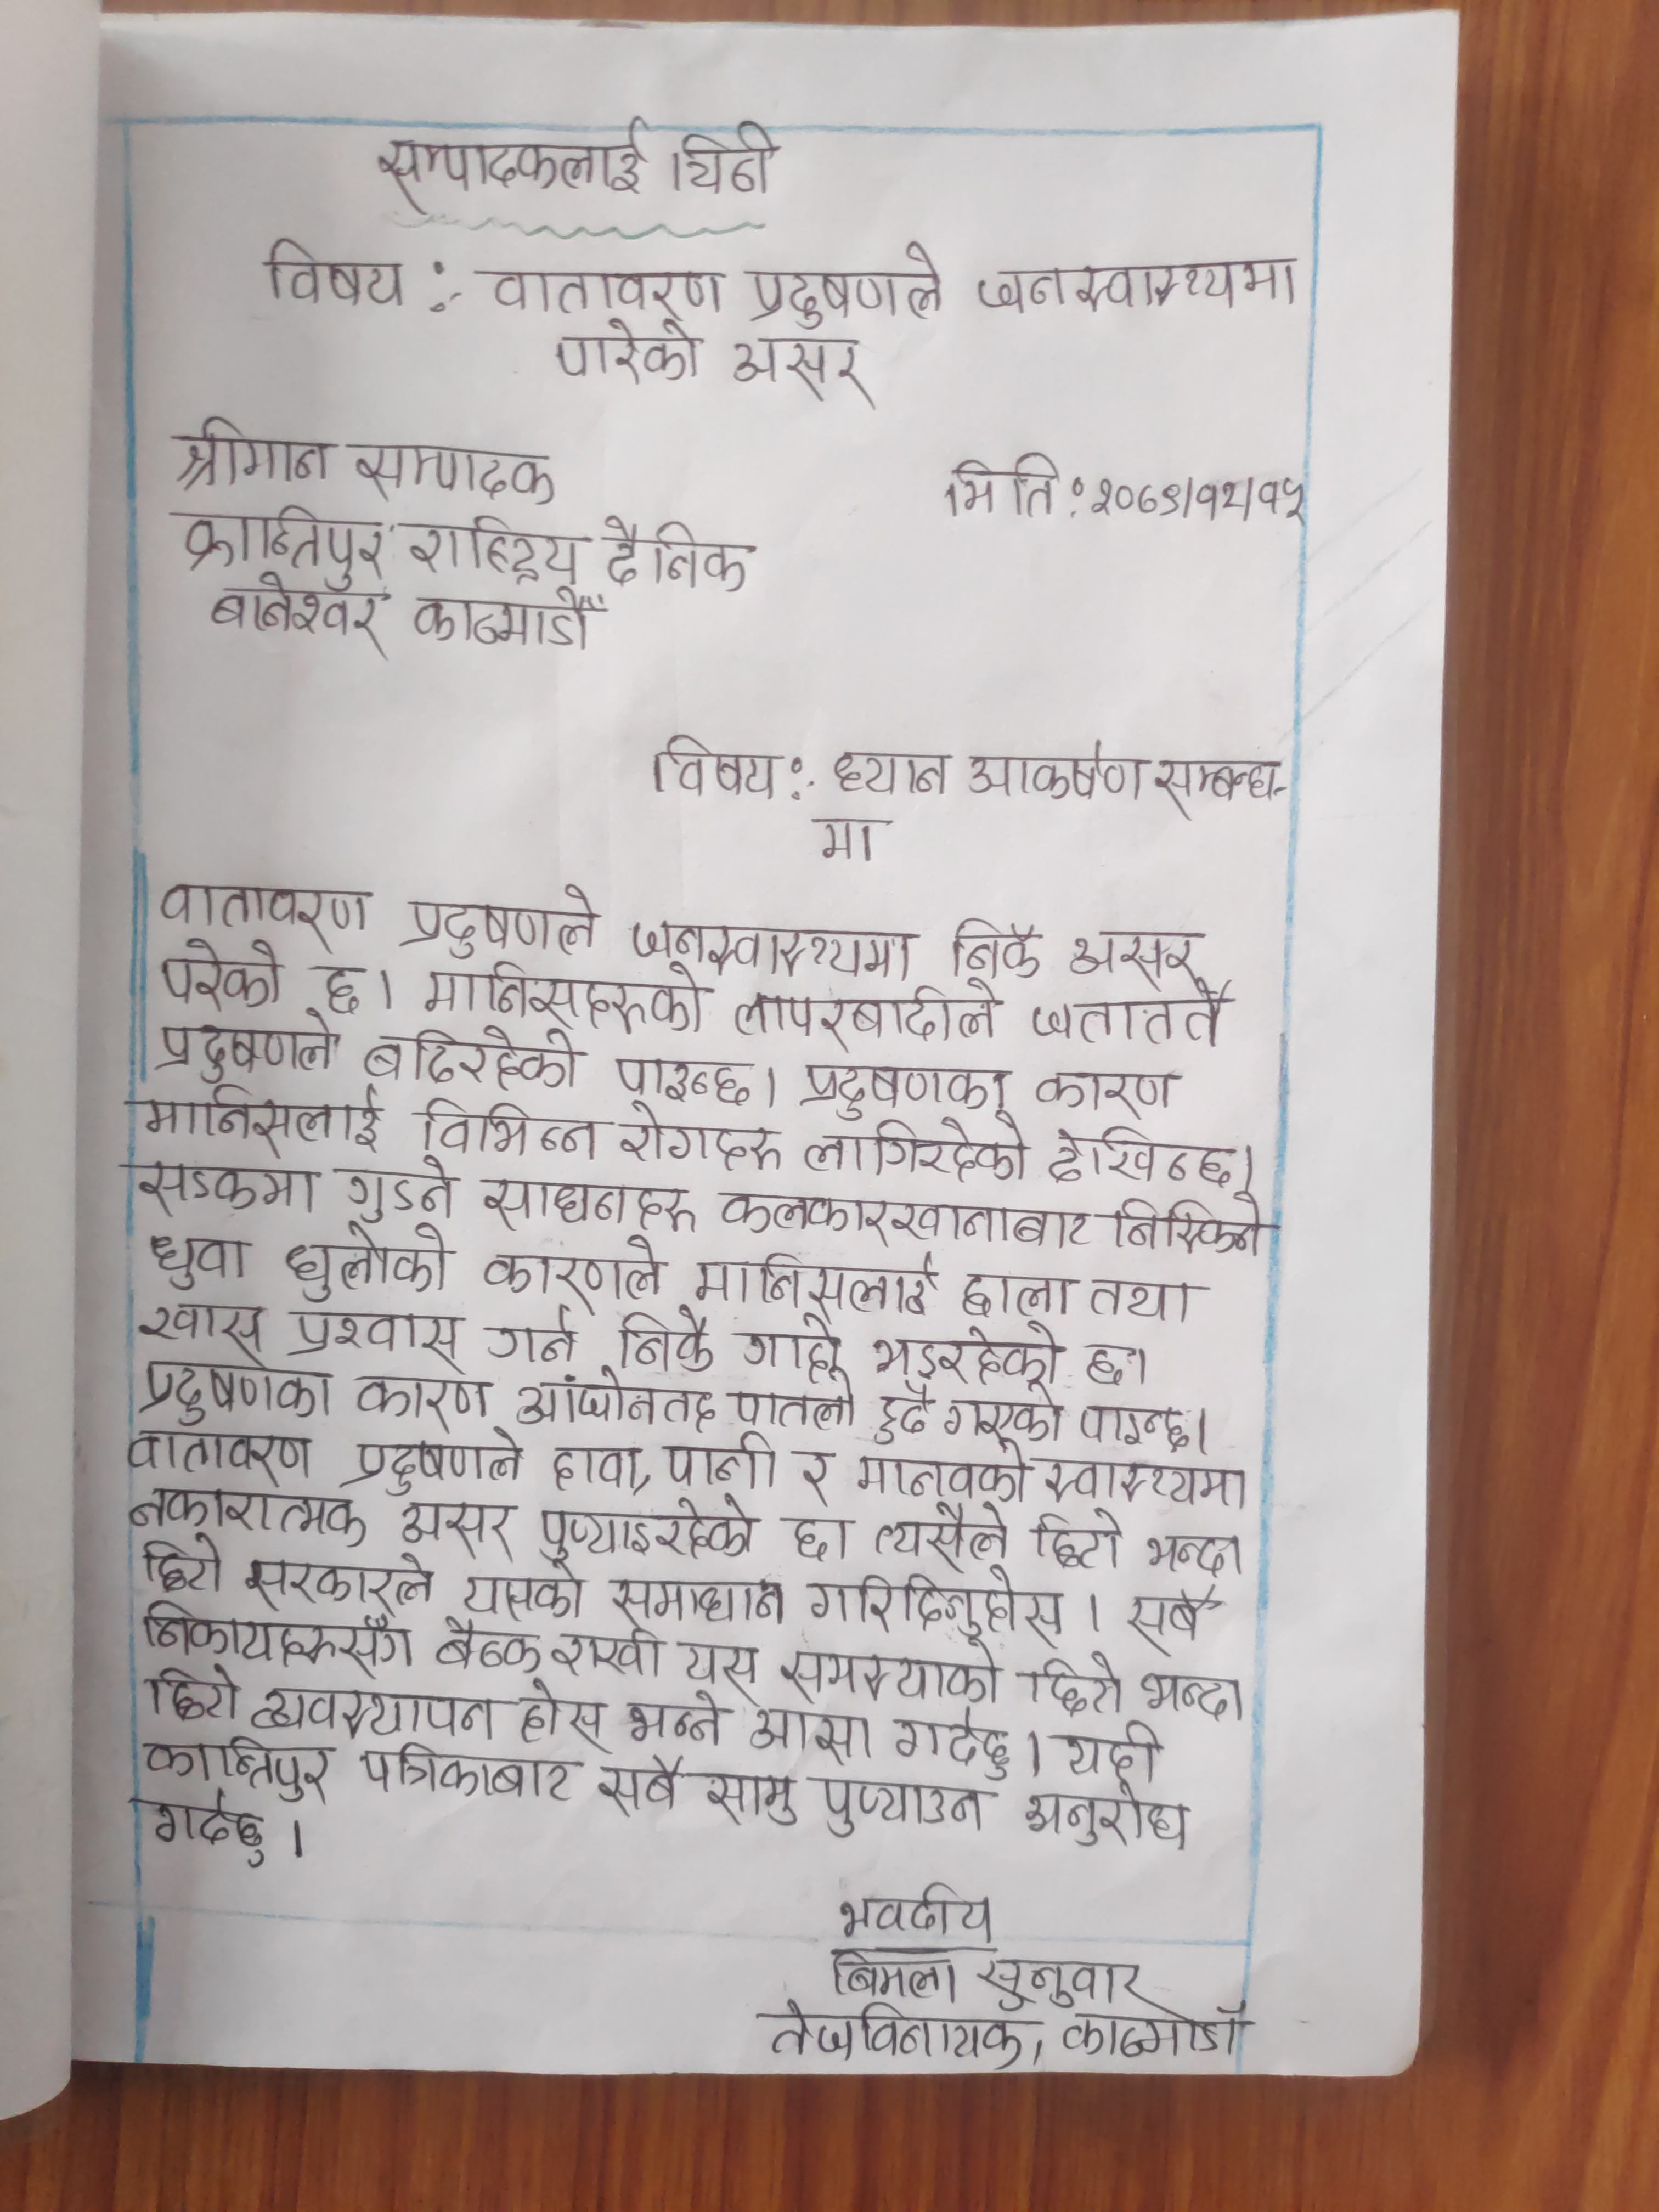text: (373, 110, 650, 214), (713, 1186, 1091, 1249), (134, 1599, 416, 1677), (756, 1996, 1026, 2074), (422, 961, 716, 1031), (624, 911, 915, 979), (978, 251, 1300, 308), (132, 1087, 382, 1160), (174, 502, 387, 587), (694, 1245, 946, 1317), (807, 1575, 1068, 1642), (528, 1491, 762, 1566), (732, 982, 1006, 1045), (781, 1627, 1007, 1702), (746, 244, 950, 324), (125, 1479, 364, 1543), (361, 1740, 579, 1810), (244, 1683, 504, 1740), (350, 430, 554, 503), (364, 1024, 580, 1092), (207, 575, 390, 655), (807, 1120, 1033, 1184), (127, 1353, 342, 1421), (406, 883, 599, 956), (477, 1172, 695, 1237), (281, 1223, 451, 1305), (237, 1541, 437, 1609), (481, 263, 730, 317), (1040, 1449, 1253, 1512), (132, 1155, 322, 1224), (404, 510, 580, 585), (174, 409, 335, 491), (617, 1099, 788, 1176), (871, 1317, 1063, 1385), (965, 735, 1147, 806), (598, 512, 755, 594), (483, 1237, 671, 1305), (817, 1768, 992, 1841), (153, 878, 373, 934), (976, 1947, 1161, 2013), (796, 1059, 1007, 1116), (416, 1092, 599, 1158), (1019, 1782, 1197, 1850), (610, 1564, 791, 1630), (138, 1737, 328, 1799), (849, 1440, 1033, 1505), (1112, 1190, 1272, 1263), (1046, 1125, 1237, 1186), (1089, 469, 1305, 523), (727, 326, 875, 404), (512, 1374, 716, 1430), (150, 1019, 342, 1078), (413, 587, 596, 648), (282, 1298, 462, 1359), (1065, 2005, 1253, 2062), (1030, 995, 1234, 1045), (894, 1707, 1021, 1787), (342, 1437, 523, 1493), (260, 235, 404, 305), (552, 317, 699, 385), (836, 1879, 995, 1942), (153, 939, 284, 1014), (143, 1792, 274, 1867), (122, 1430, 312, 1480), (868, 1507, 1012, 1569), (1152, 749, 1284, 817), (669, 120, 781, 200), (650, 732, 781, 798), (462, 1555, 591, 1622), (1030, 1066, 1178, 1122), (1072, 923, 1202, 984), (132, 1294, 267, 1353), (748, 1703, 882, 1763), (824, 1946, 962, 2003), (615, 1049, 756, 1104), (737, 1312, 847, 1383), (945, 449, 1056, 519), (613, 1301, 721, 1372), (342, 1153, 453, 1221), (664, 1430, 784, 1491), (143, 1231, 256, 1296), (1054, 1721, 1171, 1782), (936, 1390, 1066, 1444), (343, 1378, 488, 1426), (138, 1660, 242, 1726), (1086, 1264, 1202, 1324), (962, 1263, 1082, 1320), (1072, 1393, 1195, 1449), (396, 1500, 519, 1555), (592, 1749, 688, 1818), (1025, 1651, 1124, 1717), (830, 745, 955, 798), (483, 1305, 587, 1367), (1028, 1510, 1131, 1573), (622, 1684, 727, 1745), (1124, 1587, 1220, 1653), (702, 1768, 798, 1834), (732, 1383, 861, 1432), (132, 1533, 228, 1597), (1141, 1524, 1251, 1580), (1136, 1669, 1246, 1721), (950, 914, 1040, 977), (432, 1625, 542, 1676), (552, 1629, 666, 1677), (514, 1688, 606, 1747), (551, 1440, 647, 1493), (871, 1383, 934, 1449), (807, 812, 890, 860), (678, 1641, 762, 1689), (308, 956, 369, 1015), (1082, 1332, 1134, 1392), (791, 1440, 840, 1503), (774, 1515, 833, 1564)
